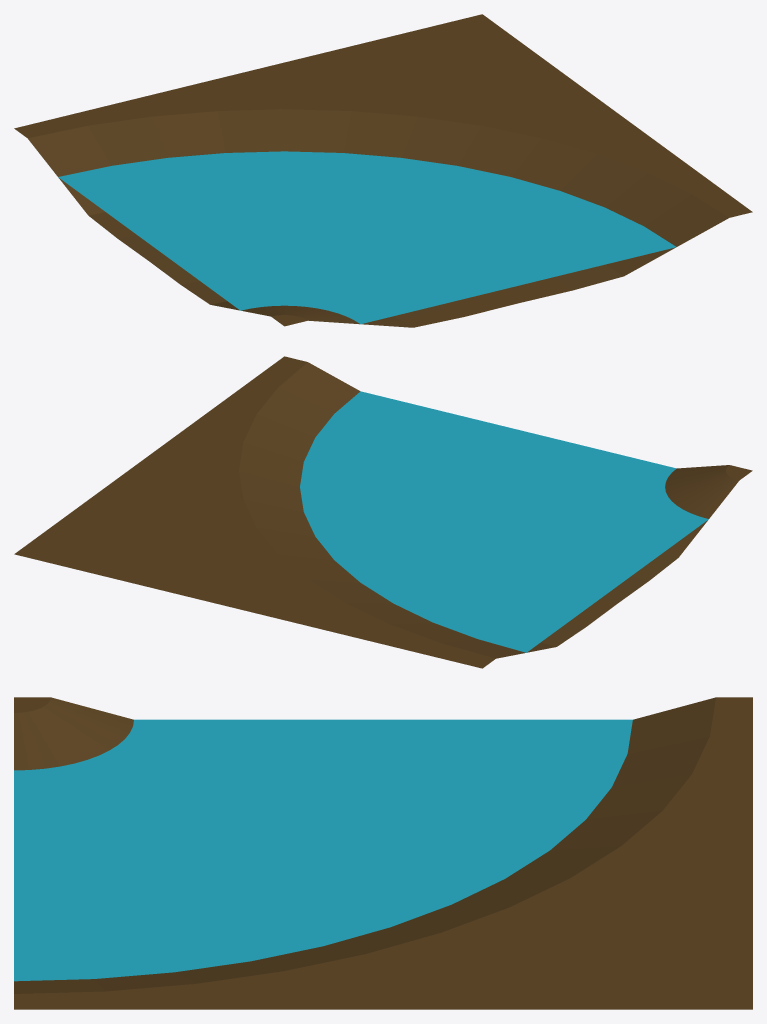
The model's file is Riverbank Corner.fbx.
3 renders of one model, top to bottom at view 1: azimuth 30°, elevation 25°; view 2: azimuth 150°, elevation 25°; view 3: azimuth 270°, elevation 25°, orthographic. The views are drawn at different scales.
Visible parts, largest first — view 1: Riverbank Corner, RB Corner Water; view 2: RB Corner Water, Riverbank Corner; view 3: RB Corner Water, Riverbank Corner.
Boxes of the visible parts, box(x1,y1,x2,y2) form: Riverbank Corner: box(14, 14, 752, 327); RB Corner Water: box(58, 151, 676, 324); RB Corner Water: box(300, 391, 708, 652); Riverbank Corner: box(14, 356, 752, 668); RB Corner Water: box(14, 719, 632, 981); Riverbank Corner: box(14, 697, 752, 1009).
Bounding box in the file's own units: 2000 × 140 × 2000.
